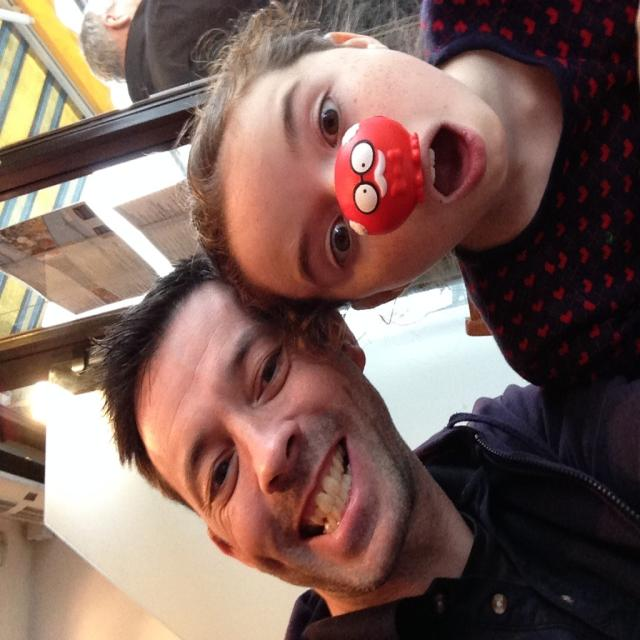Toy: (334, 115, 424, 236)
